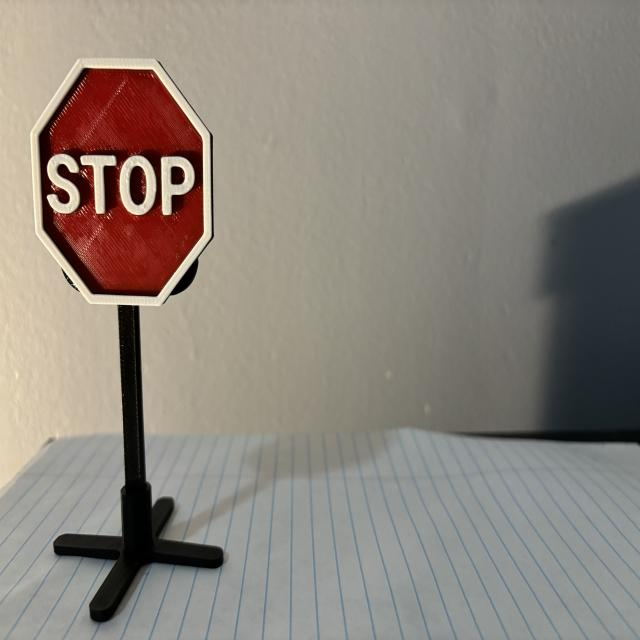sign_stop: (31, 59, 212, 307)
